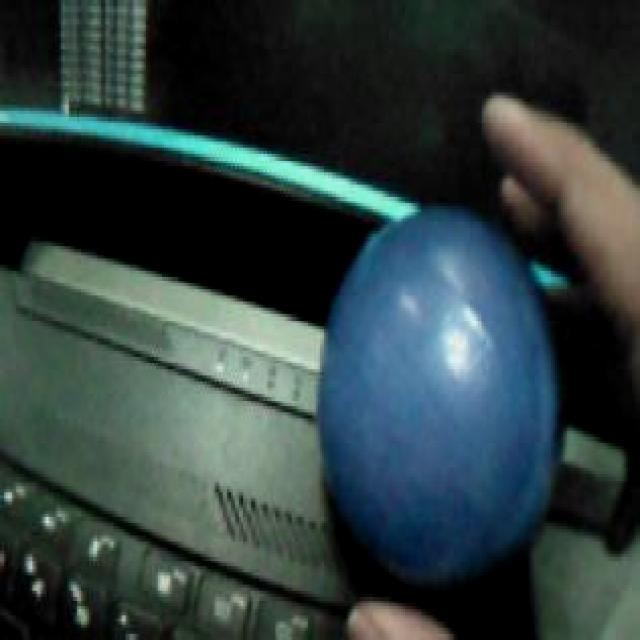BallPurple: (318, 207, 559, 591)
